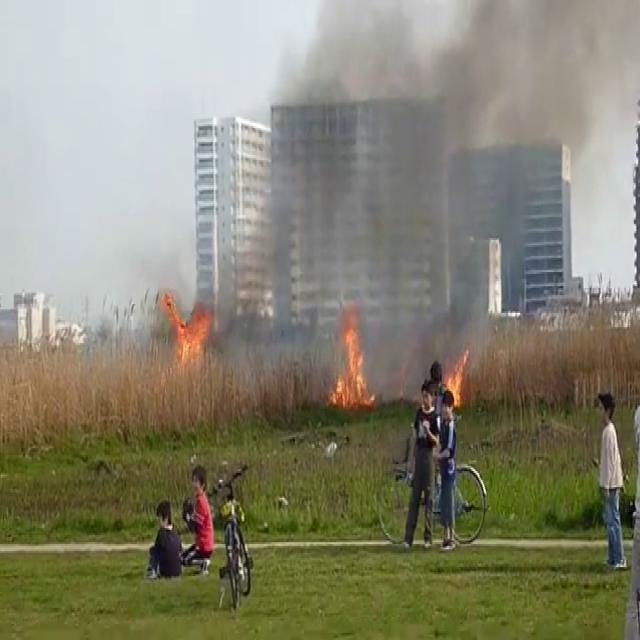Fire: (328, 295, 376, 418), (160, 287, 218, 376), (442, 342, 472, 414)
Smoke: (252, 0, 639, 379)
